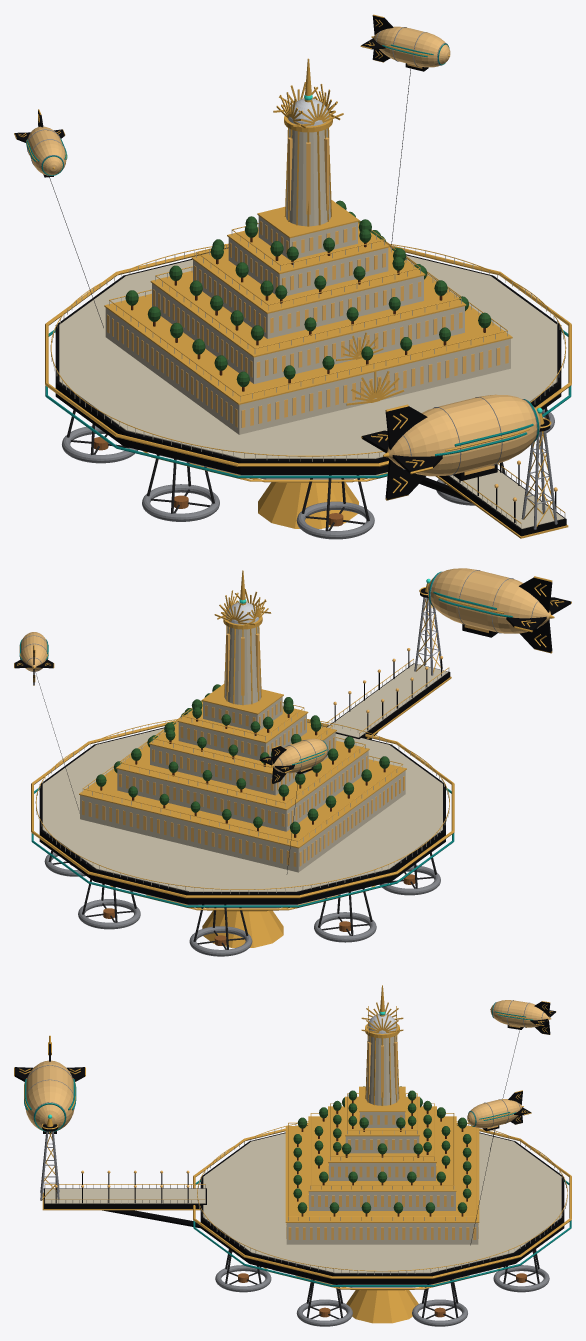
File: station_civil.obj
The picture shows the model from 3 angles, top to bottom: view 1: azimuth 30°, elevation 25°; view 2: azimuth 150°, elevation 25°; view 3: azimuth 270°, elevation 25°; orthographic projection. The views are drawn at different scales.
Visible parts, largest first — view 1: station_civil; view 2: station_civil; view 3: station_civil.
Part boxes in pixels (left/top/right/bottom): station_civil: left=14, top=14, right=571, bottom=539; station_civil: left=14, top=568, right=571, bottom=956; station_civil: left=14, top=985, right=571, bottom=1326.
Bounding box in the file's own units: 951 × 893 × 1400.
Materials: 1 (1 with a texture image).
